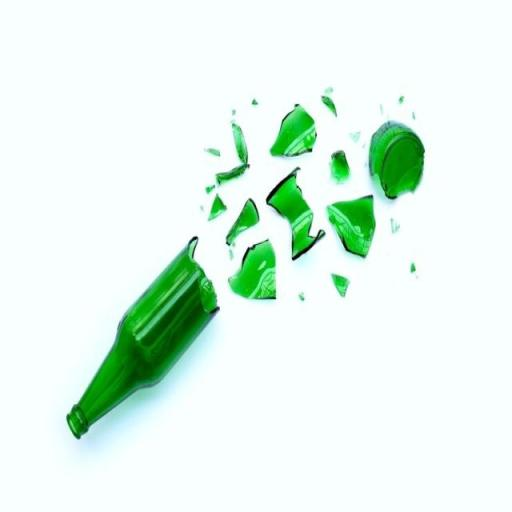glass: (65, 241, 215, 438), (265, 167, 326, 262), (367, 121, 426, 202), (326, 195, 376, 258), (228, 240, 276, 300), (269, 103, 316, 158), (214, 121, 250, 189), (226, 196, 260, 246), (328, 149, 351, 185)
